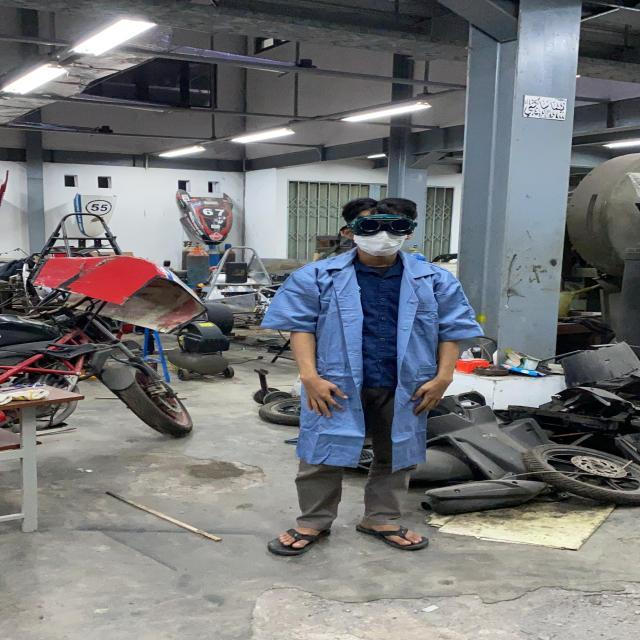glasses: (342, 211, 422, 236)
